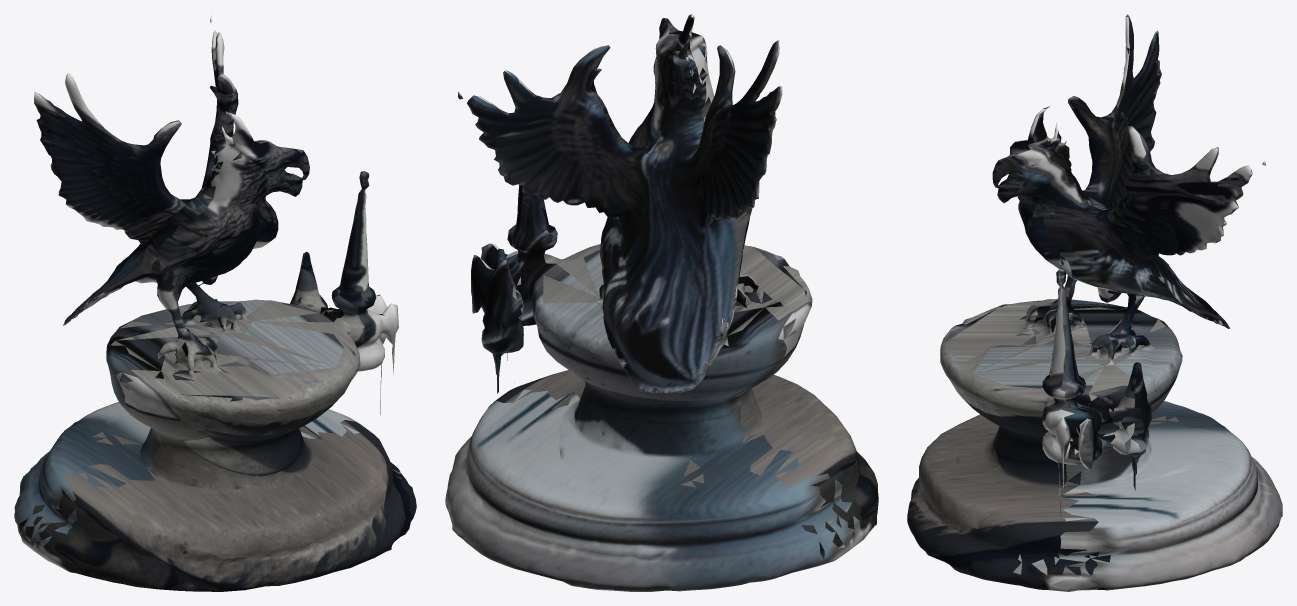
The picture shows the model from 3 angles, left to right: view 1: azimuth 30°, elevation 25°; view 2: azimuth 150°, elevation 25°; view 3: azimuth 270°, elevation 25°; orthographic projection. The views are drawn at different scales.
Visible parts, largest first — view 1: Mesh_0; view 2: Mesh_0; view 3: Mesh_0.
Part boxes in pixels (x1,y1,x2,y2): Mesh_0: (14,14,416,591); Mesh_0: (445,14,878,591); Mesh_0: (907,14,1282,591).
Size of the model in its own units: 0.7981 by 1 by 0.7717.
1 material, 1 textured.
